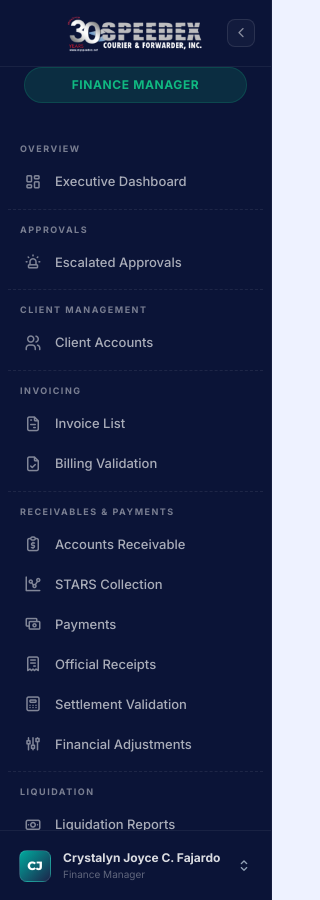
Scenario: EMP-001 (Finance Manager) — Complete Page-by-Page Workflow & Verification › User Profile and Logout Flow › renders user card in sidebar, opens profile menu, and clicking Log Out executes logout
Later steps or results of the test are not shown.
Expected: the text "Crystalyn Joyce C. Fajardo" is shown, [63,849,220,867]
Expected: the 1st text "Finance Manager" is shown, [24,67,247,103]
Note: Click user profile card to open popup menu
Step 1. Click the text "Crystalyn Joyce C. Fajardo" → (142, 866), box [63,849,220,882]
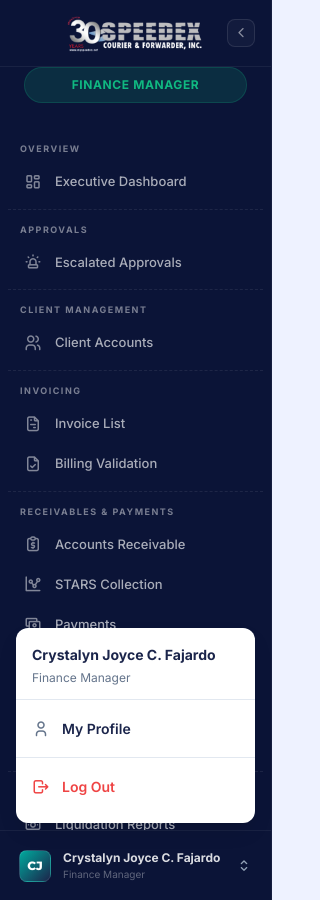
Expected: the button "Log Out" is shown, [16,766,255,807]
Expected: the button "My Profile" is shown, [16,708,255,749]
